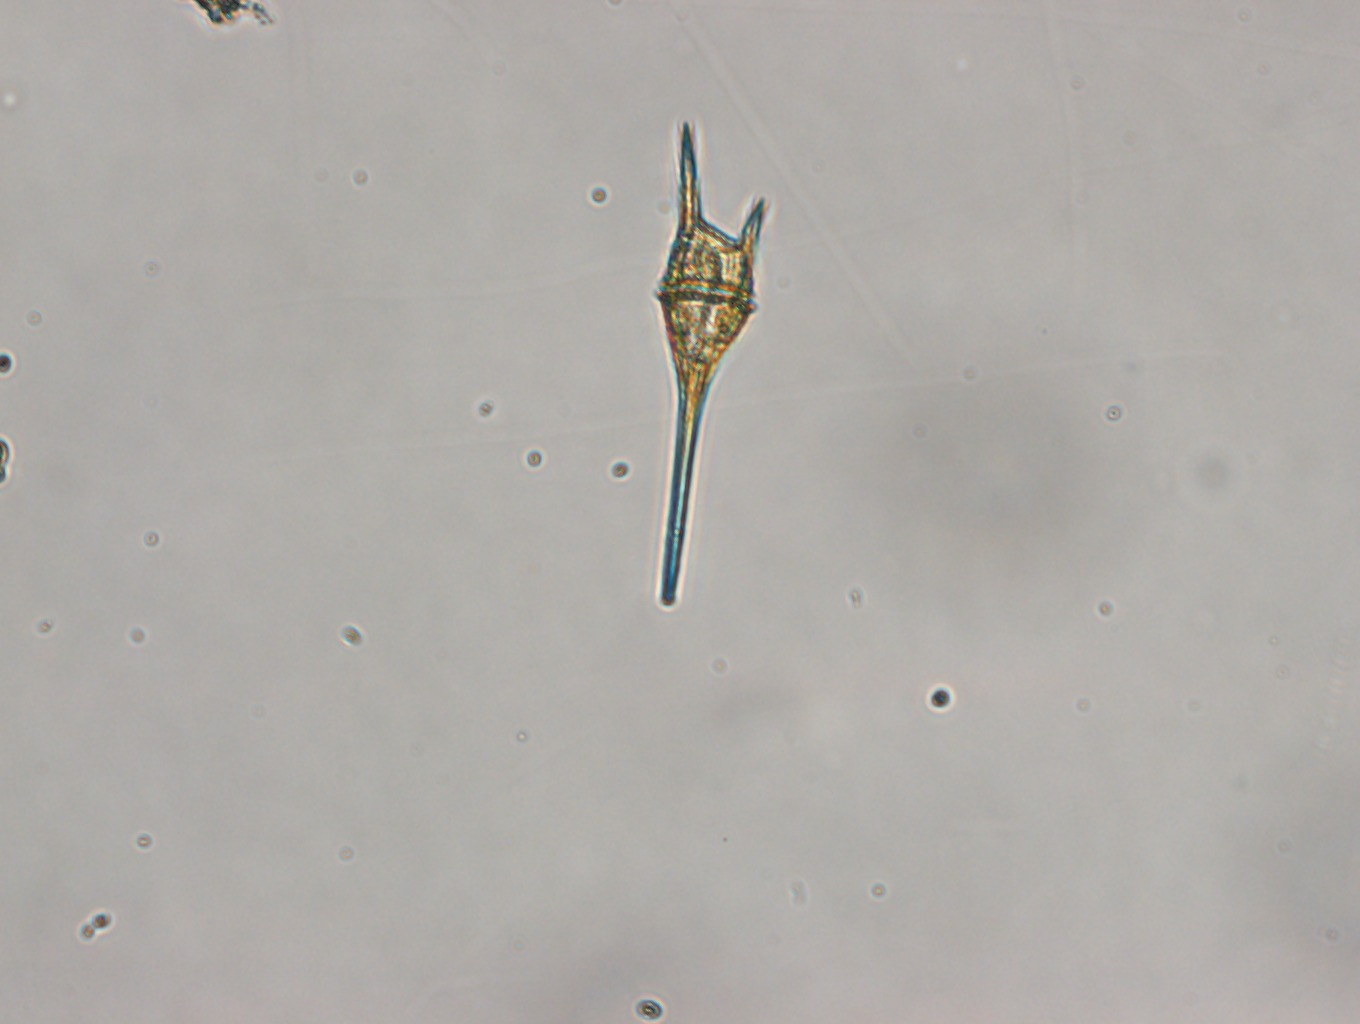ceratium furca: (652, 117, 767, 607)
